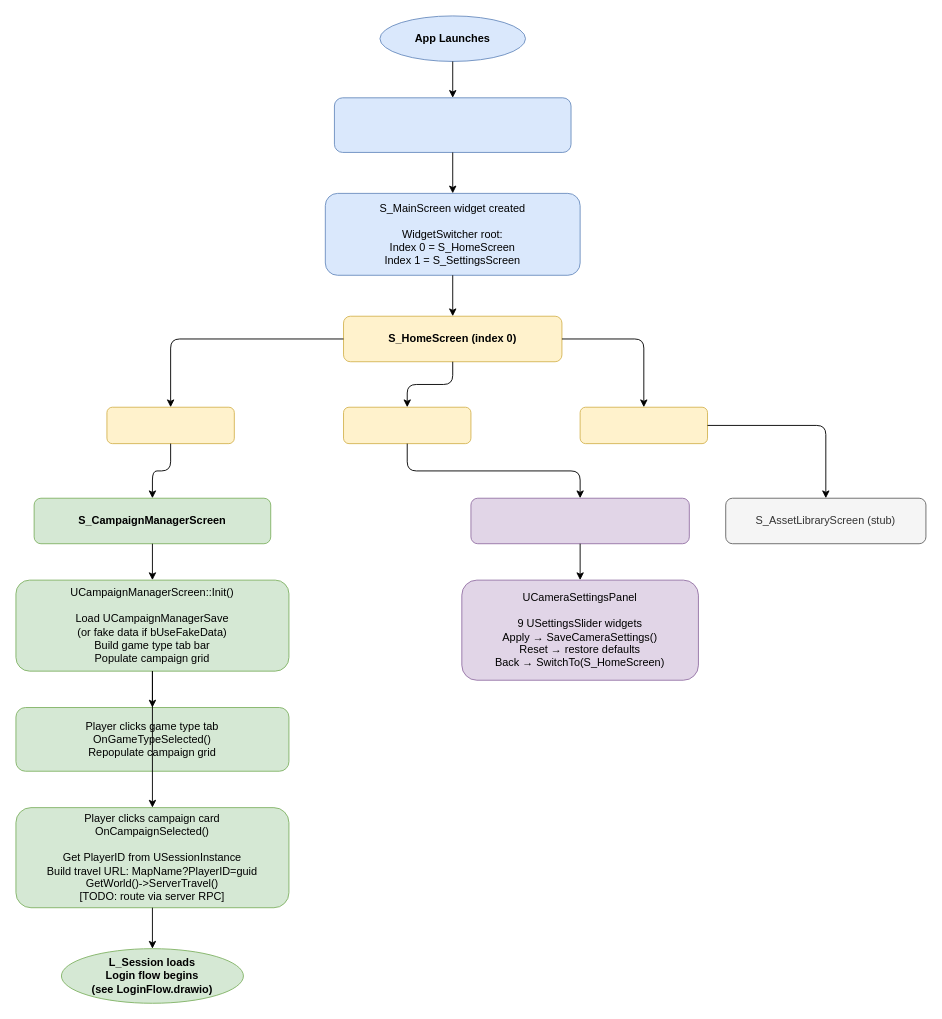
The diagram is 942 pixels wide and 1019 high, and some of its shapes have lost their labels. The box of each missing label's shape, as (x1, y1, x2, y2) in pixels:
L_HomeScreen loads AMainScreenController + UMainScreenHUDComponent: (334, 97, 571, 152)
Library button (stub): (579, 406, 708, 444)
Play button: (106, 406, 234, 444)
S_SettingsScreen (index 1): (470, 497, 689, 544)
Settings button: (343, 406, 471, 444)
